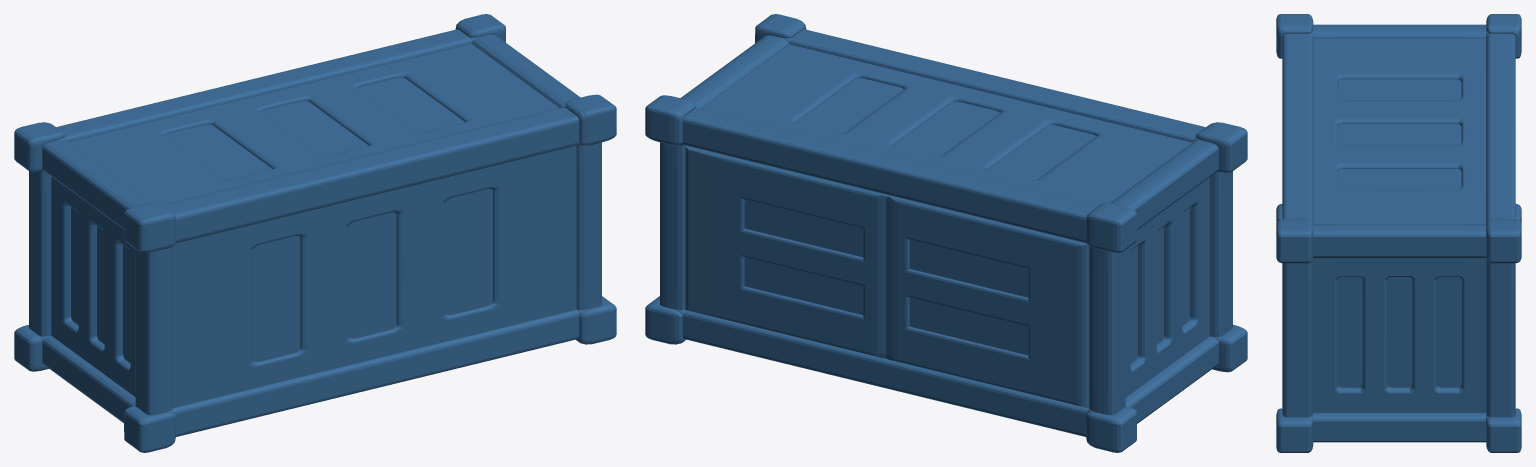
Rendered from cargo_blue.fbx.
3 renders of one model, left to right at view 1: azimuth 30°, elevation 25°; view 2: azimuth 150°, elevation 25°; view 3: azimuth 270°, elevation 25°, orthographic. The views are drawn at different scales.
Parts seen in each view (by area): view 1: Cube.021; view 2: Cube.021; view 3: Cube.021.
Boxes of the visible parts, <box> form: Cube.021: <box>14,14,616,452</box>; Cube.021: <box>645,14,1247,452</box>; Cube.021: <box>1276,14,1521,452</box>.
Bounding box in the file's own units: 3.65 × 1.71 × 1.71.
